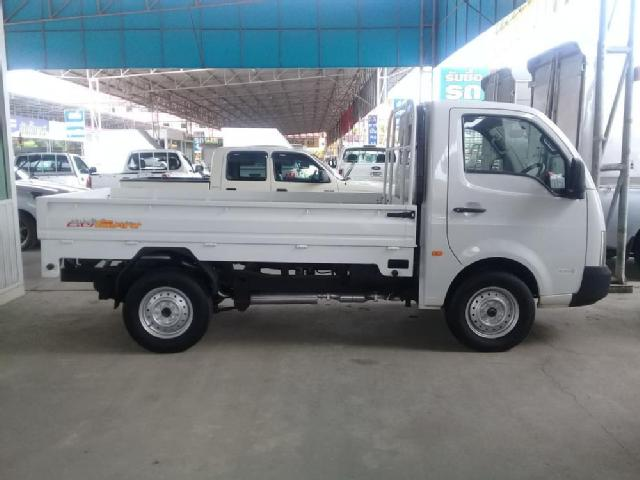pickup: (35, 97, 612, 356)
